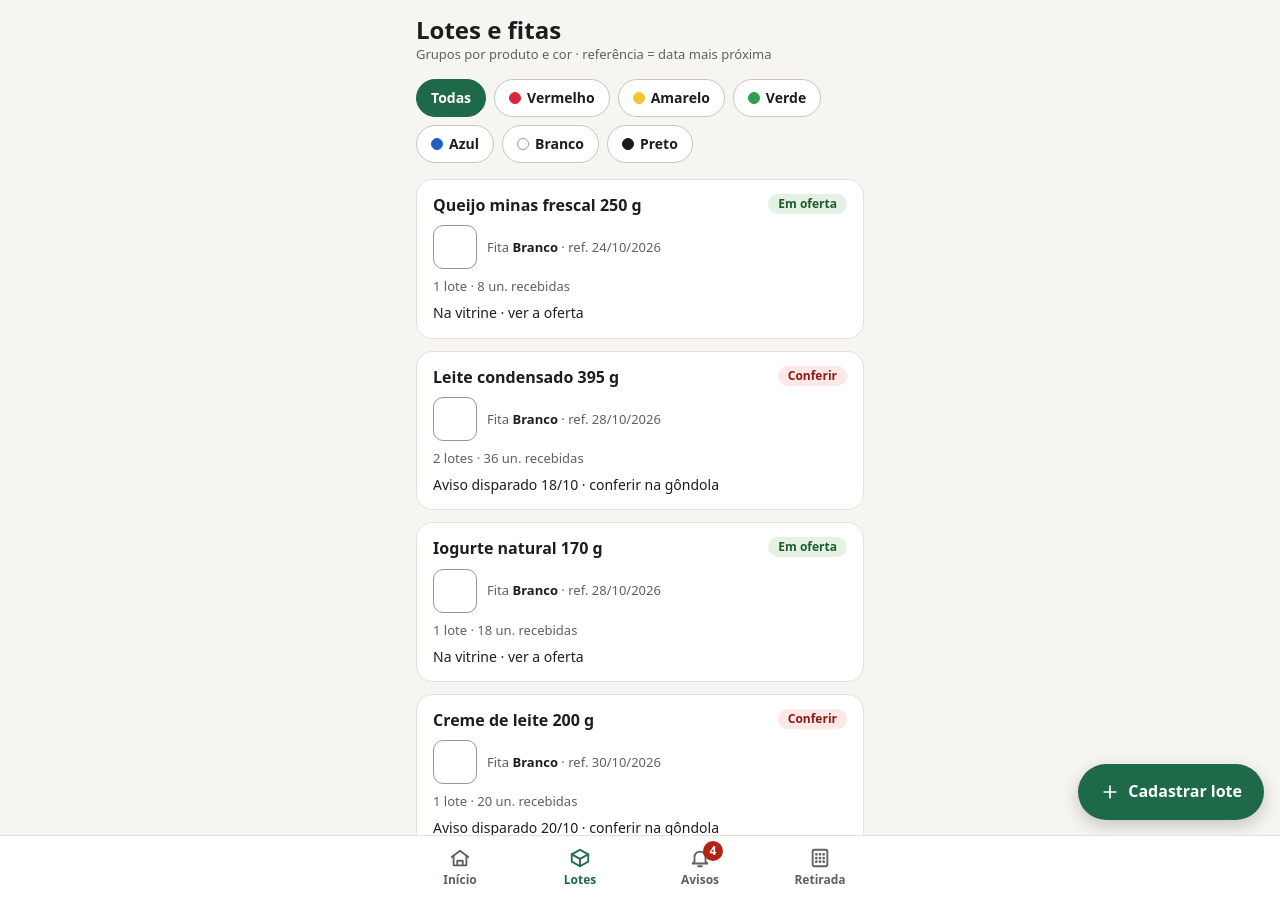
Test: L4 · Lotes e fitas › filtro de cor vai à API e fica na URL
The image size is (1280, 900).
Expected: the text "Leite condensado 395 g" is shown, left=433, top=366, right=619, bottom=389
Click the button "Vermelho" at (552, 98), box left=494, top=79, right=610, bottom=117
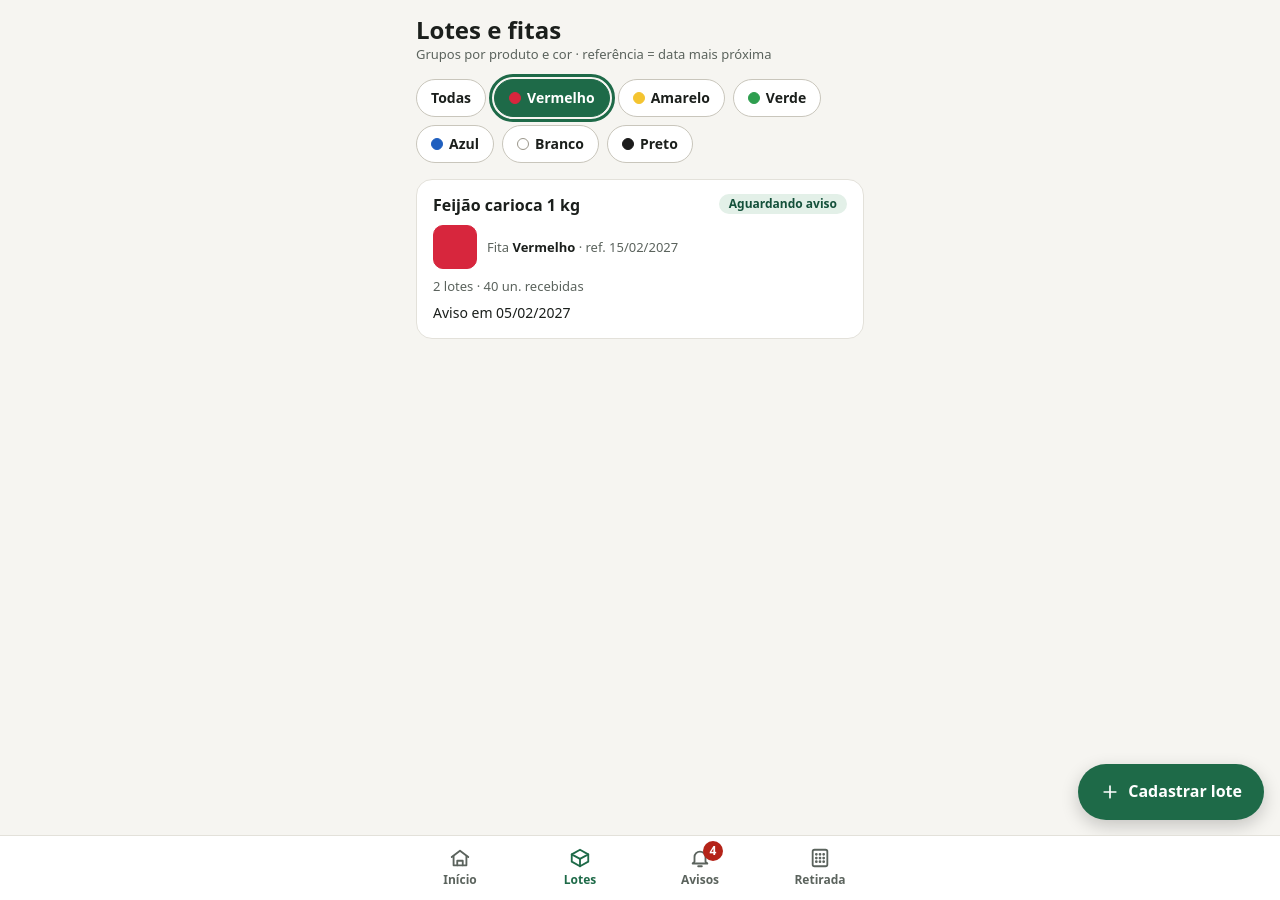
Expected: the text "Feijão carioca 1 kg" is shown, left=433, top=194, right=580, bottom=217
Expected: the link "Leite condensado 395 g" is gone
